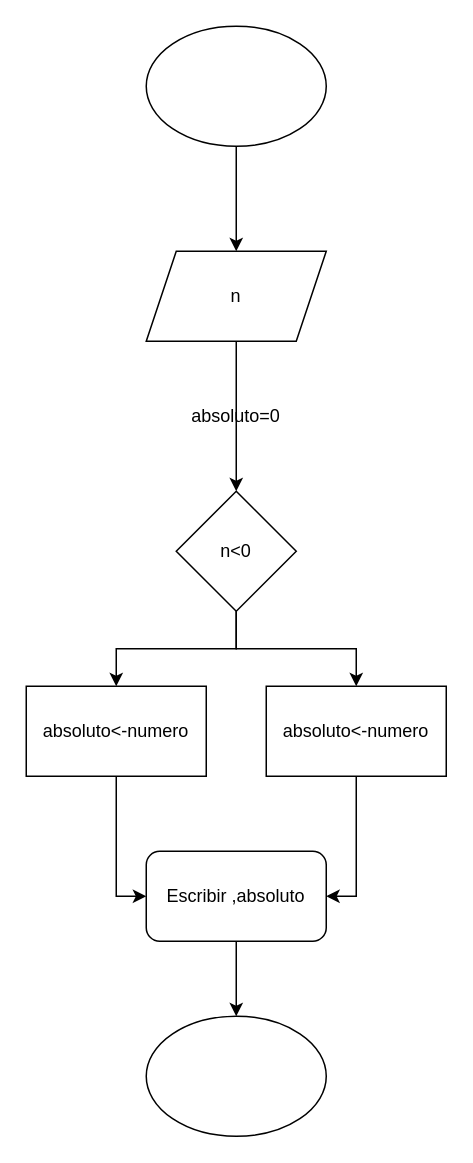
Some shapes in this 473 by 1163 pixel diagram are drawn without their labels. Each missing label, with the centre of its shape:
Fin: the point at 235,1075
Inicio: the point at 235,85
